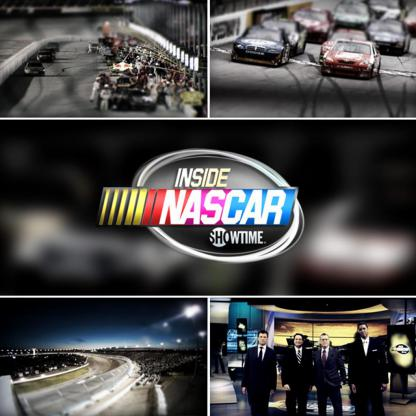face: (359, 326, 368, 337), (321, 336, 329, 347), (295, 336, 303, 346), (260, 334, 268, 344)
